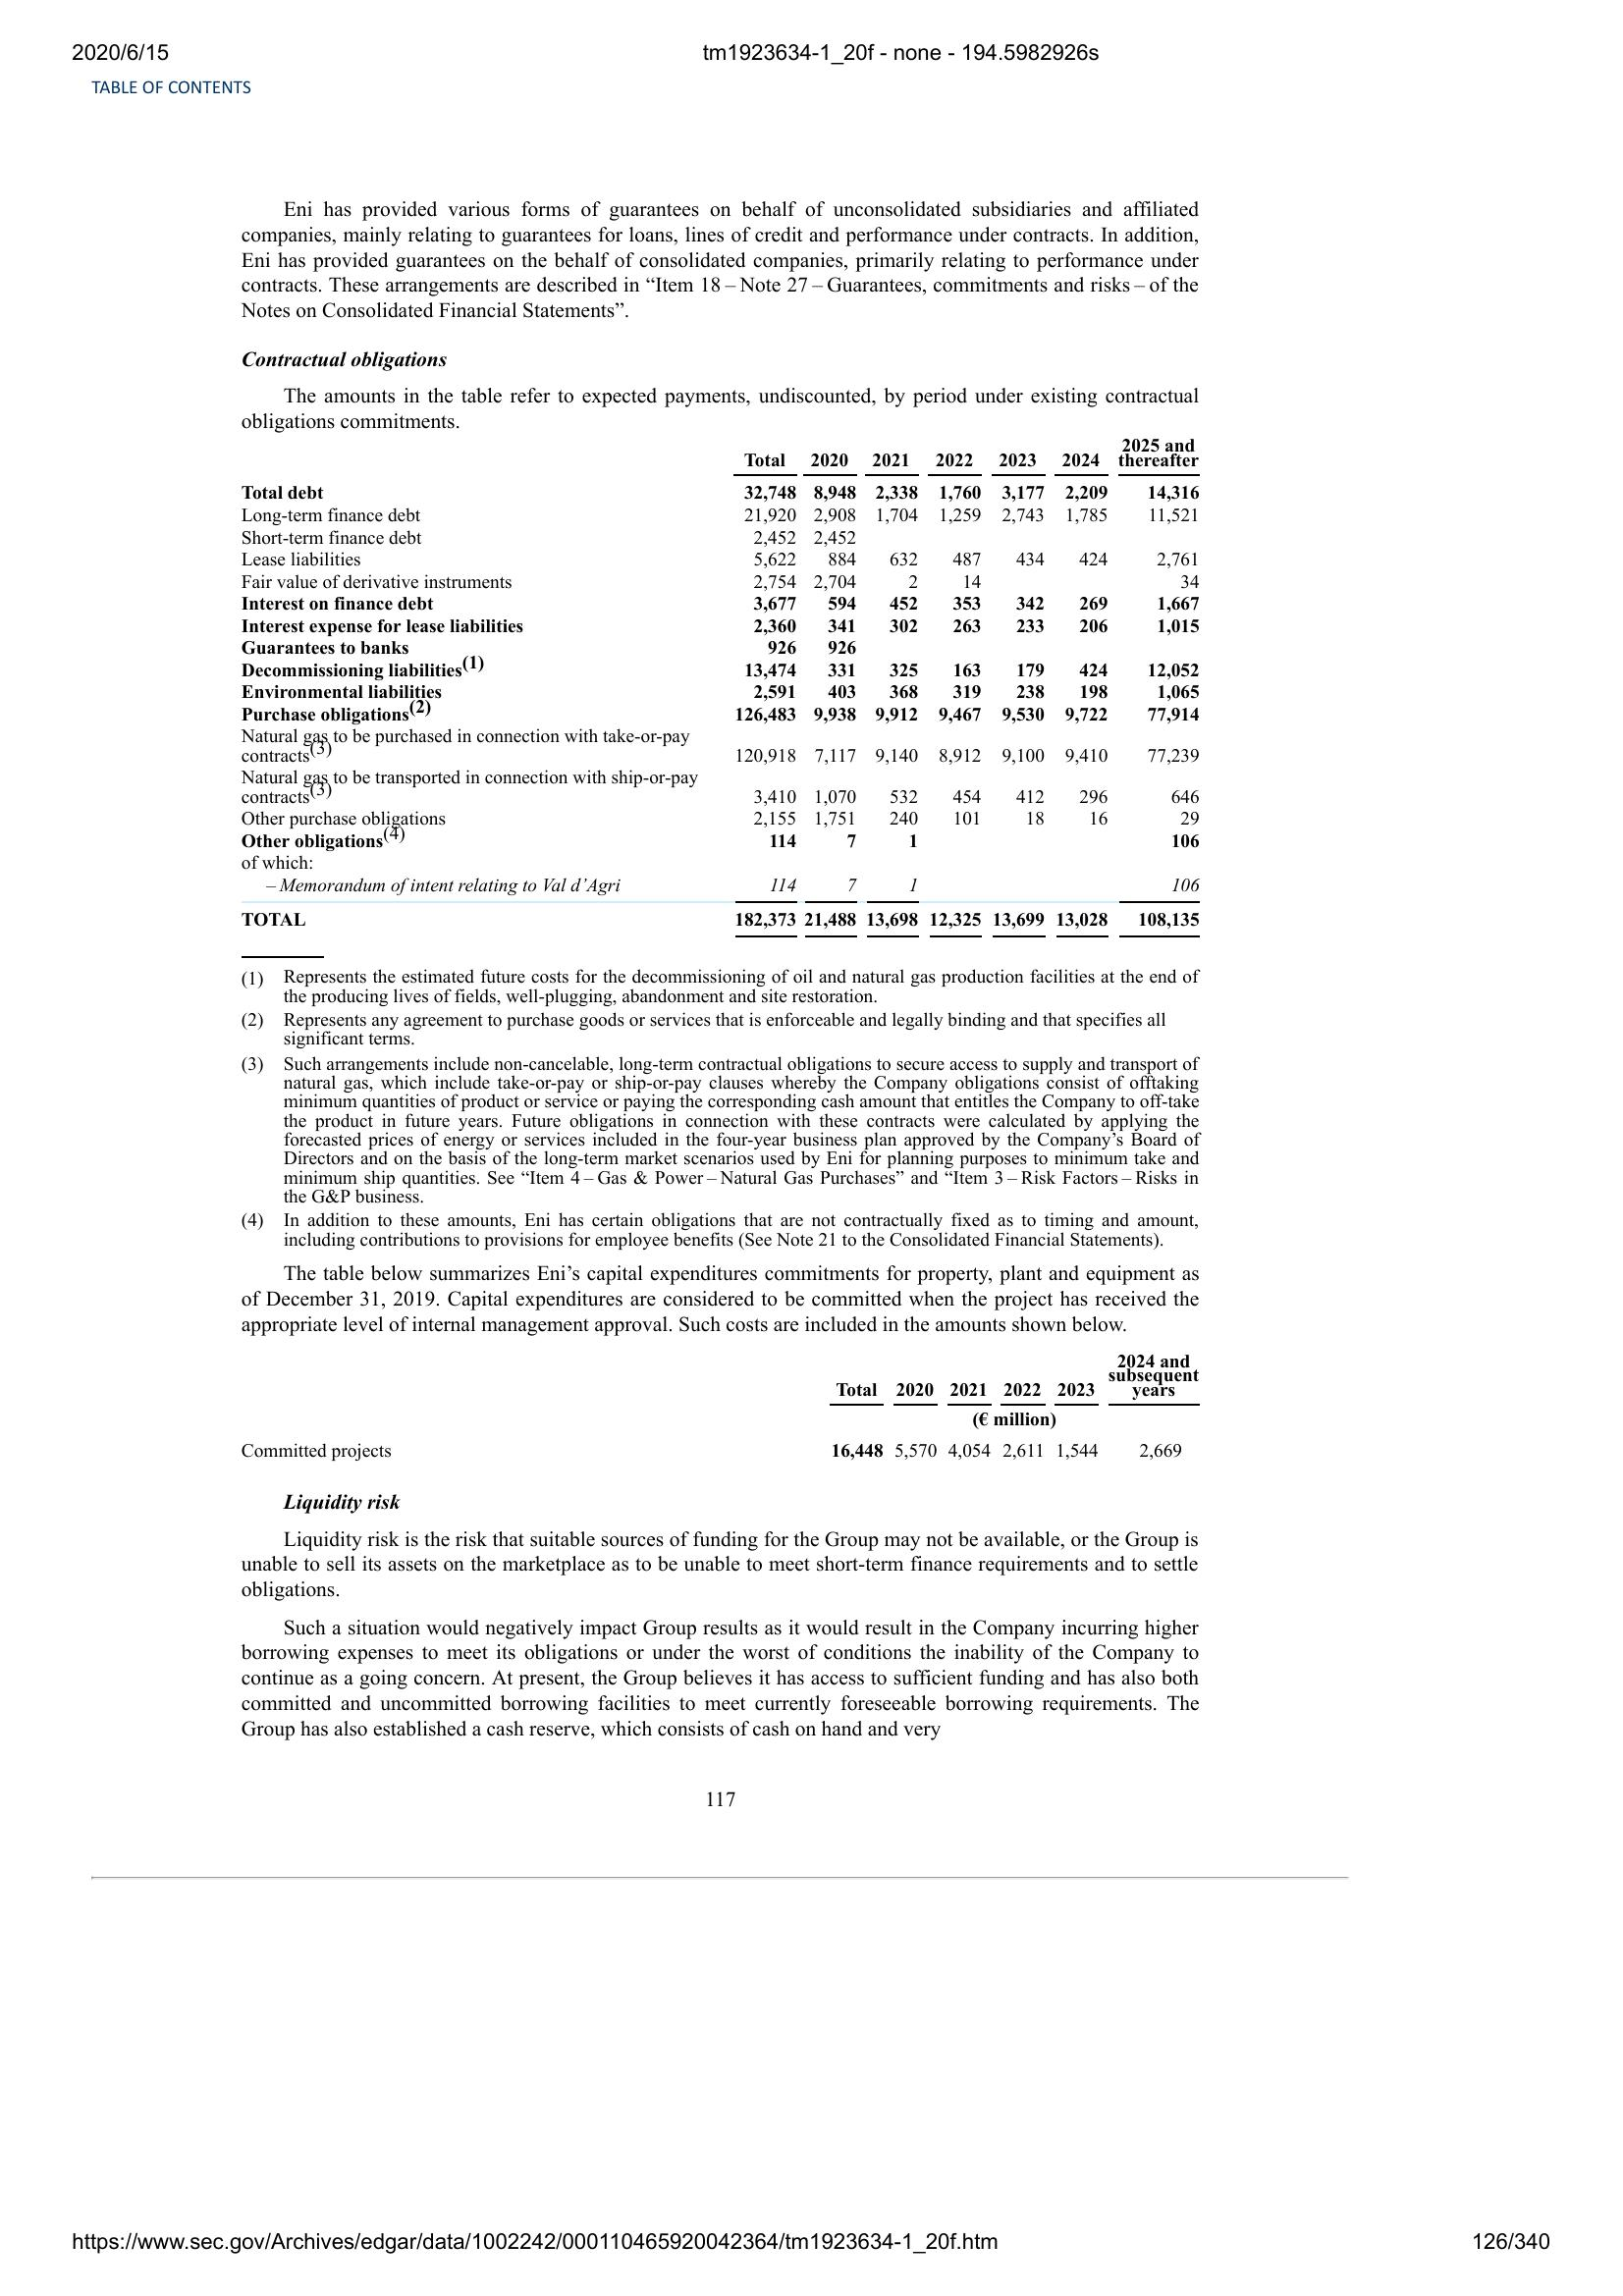table: (227, 430, 1212, 948), (831, 1346, 1210, 1471)
